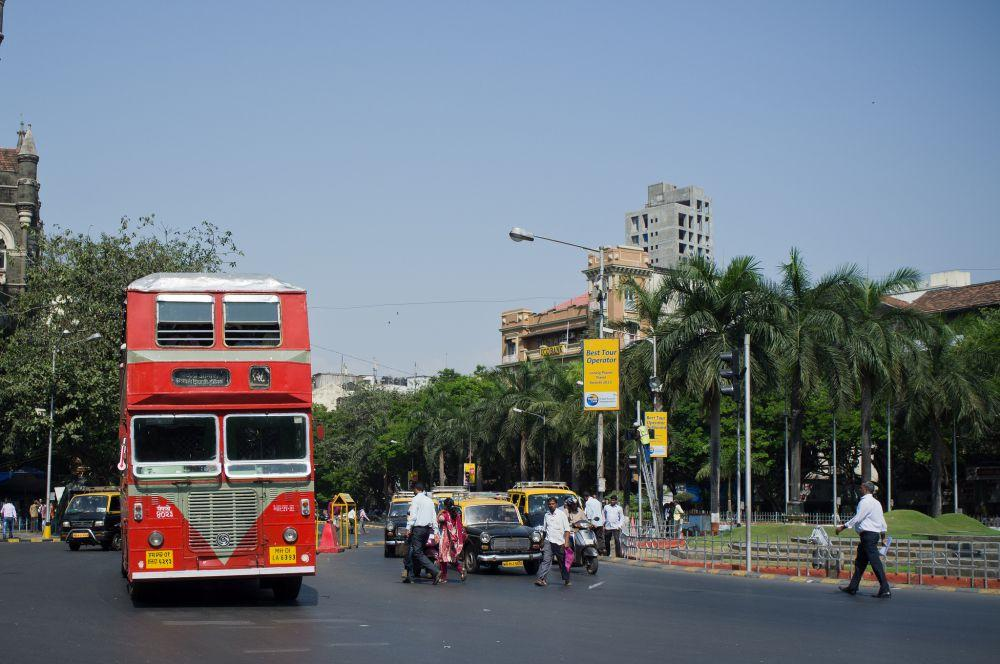bus: (113, 266, 326, 605)
